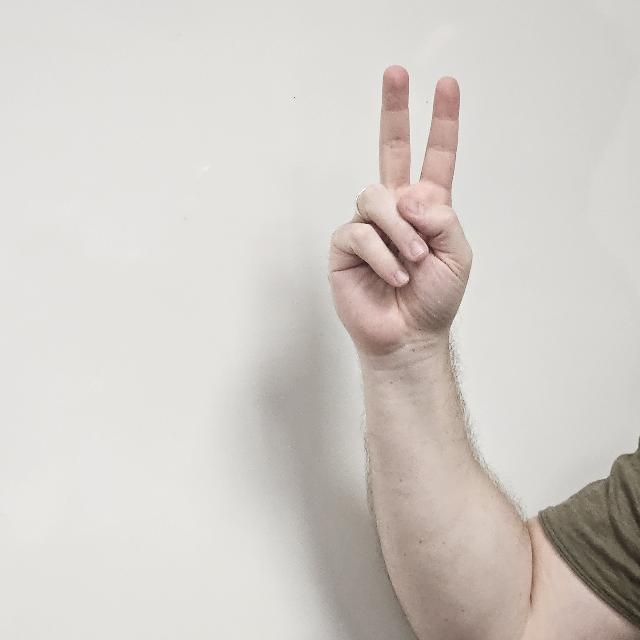Triangulo: (327, 66, 477, 360)
